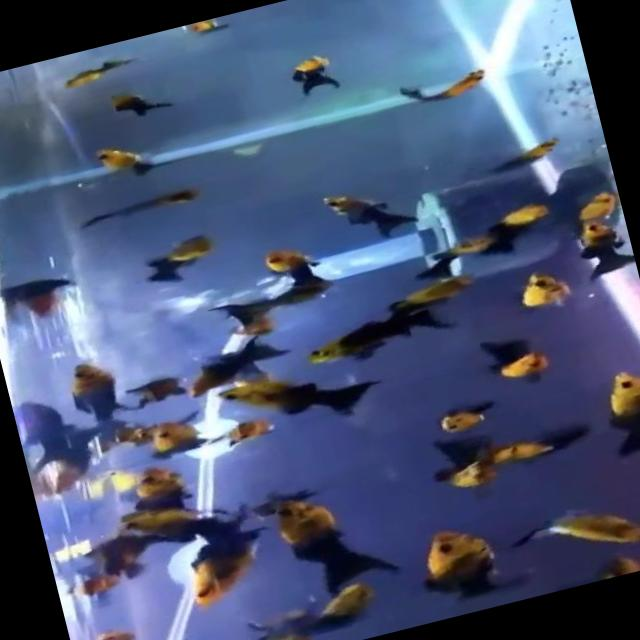PlatyFish: (263, 466, 411, 613), (207, 347, 390, 451), (400, 511, 516, 624), (308, 168, 439, 256), (575, 357, 640, 475)
